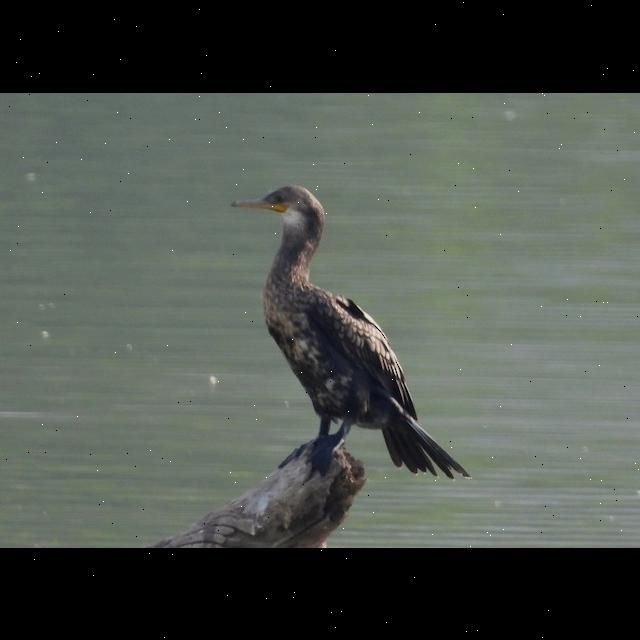cormorant: (225, 177, 468, 487)
